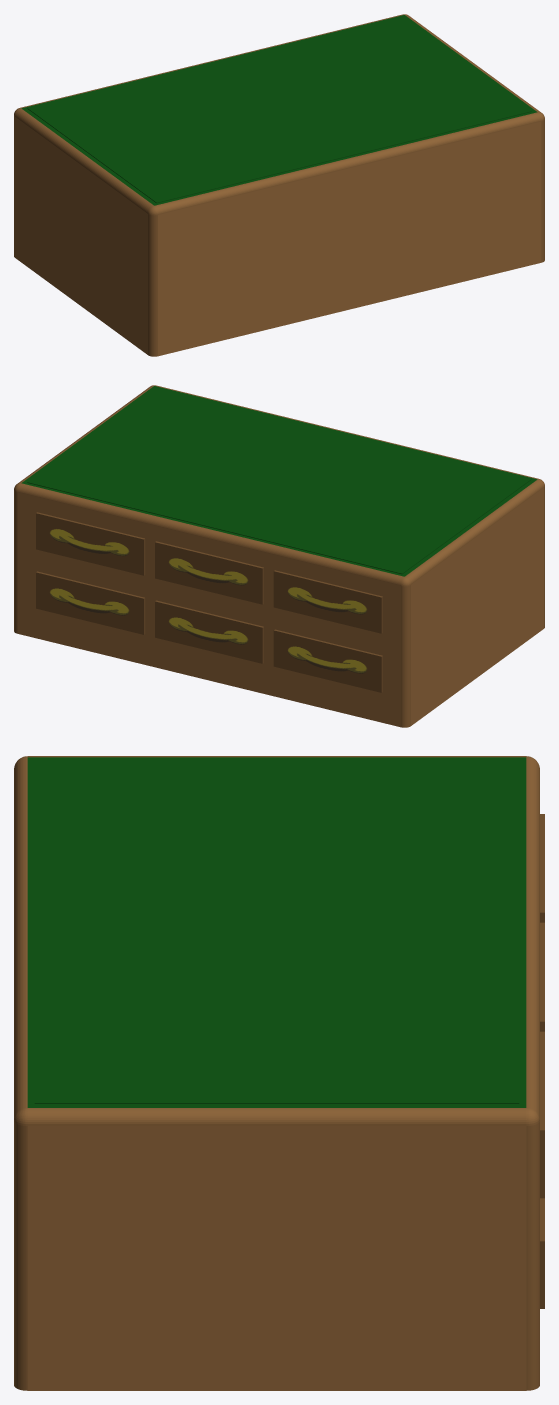
File: work_table.fbx
3 renders of one model, top to bottom at view 1: azimuth 30°, elevation 25°; view 2: azimuth 150°, elevation 25°; view 3: azimuth 270°, elevation 25°, orthographic. The views are drawn at different scales.
Parts seen in each view (by area): view 1: work_table; view 2: work_table; view 3: work_table.
Part boxes in pixels (x1=…): work_table: x1=14, y1=14, x2=544, y2=356; work_table: x1=14, y1=385, x2=544, y2=727; work_table: x1=14, y1=756, x2=544, y2=1390.
Bounding box in the file's own units: 210 × 75.28 × 130.
